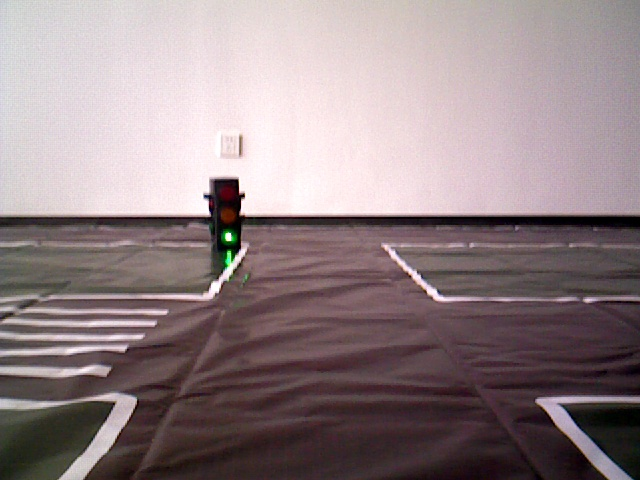green: (209, 181, 240, 248)
